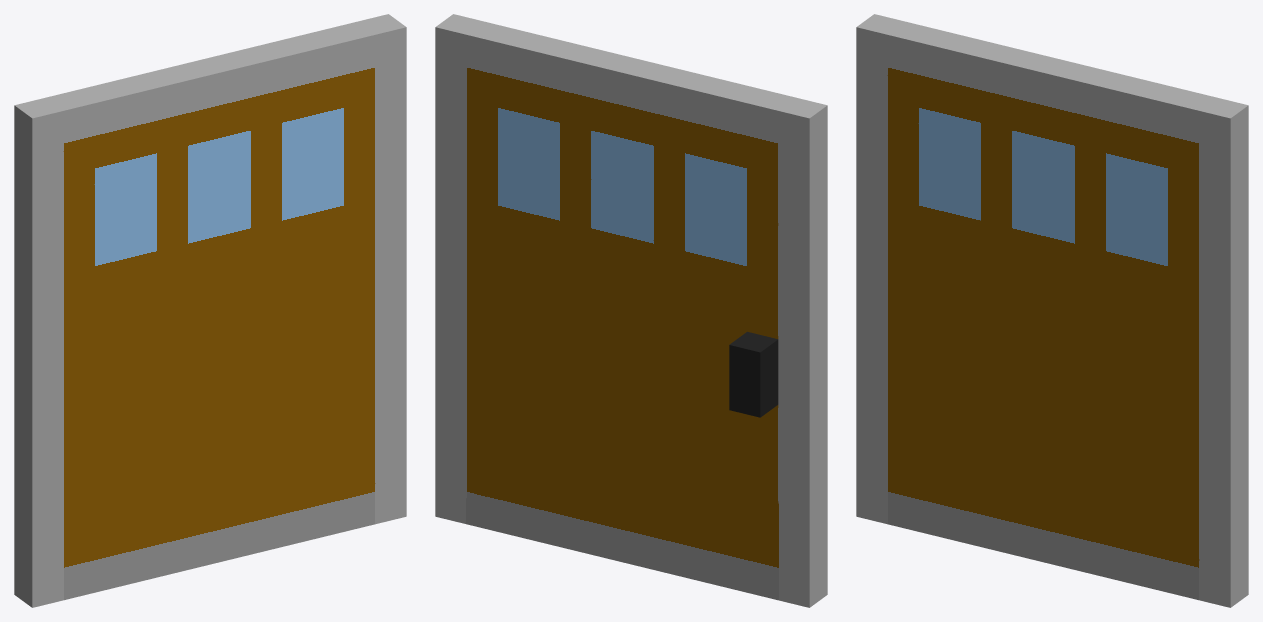
File: obj_door4.fbx
3 views of the same model, side by side, from view 1: azimuth 30°, elevation 25°; view 2: azimuth 150°, elevation 25°; view 3: azimuth 330°, elevation 25° (orthographic).
Parts seen in each view (by area): view 1: obj_door4; view 2: obj_door4; view 3: obj_door4.
Boxes of the visible parts, x1,y1,x2,y2 form: obj_door4: (14,14,406,607); obj_door4: (435,14,827,607); obj_door4: (856,14,1248,607).
Bounding box in the file's own units: 1.2 × 0.2 × 1.5.
1 material, 1 textured.
